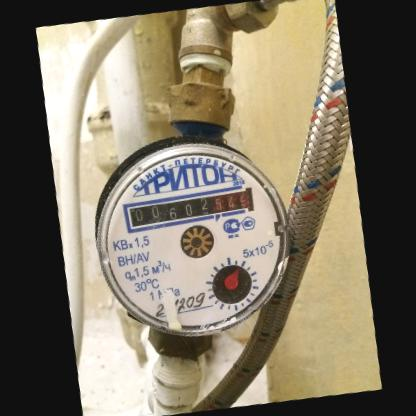digital_screen: (121, 189, 211, 234)
